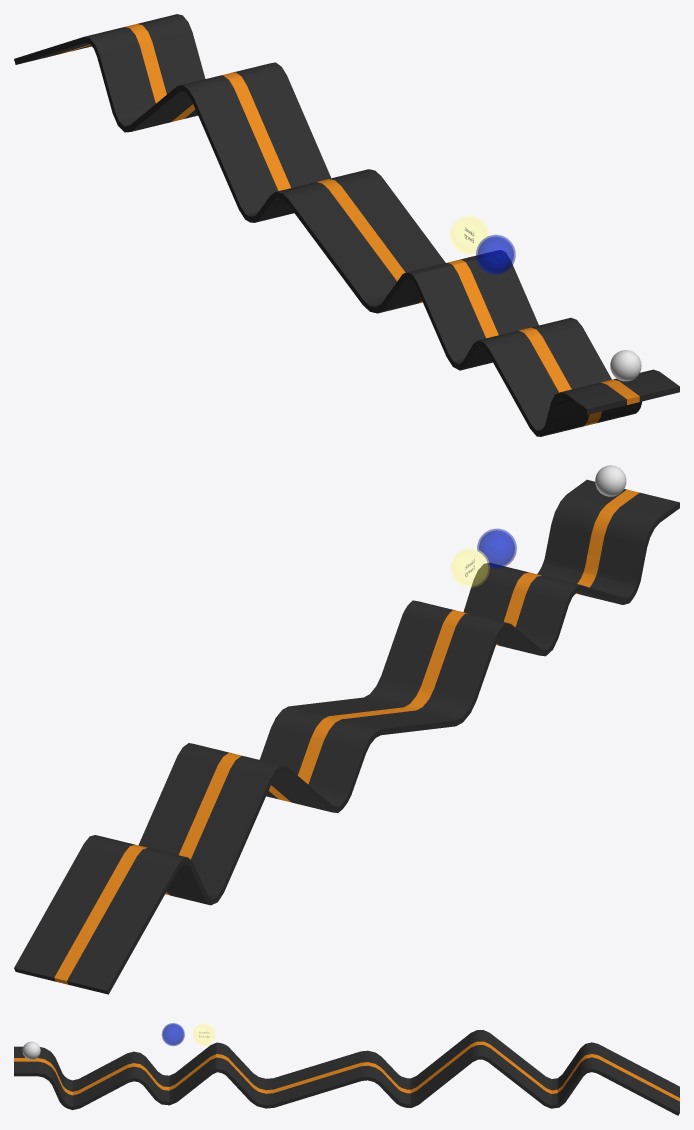
File: ACTIVITY_ASSETS.fbx
3 renders of one model, top to bottom at view 1: azimuth 30°, elevation 25°; view 2: azimuth 150°, elevation 25°; view 3: azimuth 270°, elevation 25°, orthographic. The views are drawn at different scales.
Visible parts, largest first — view 1: space_ROAD, Sphere.003, Sphere.002, ball; view 2: space_ROAD, Sphere.002, Sphere.003, ball; view 3: space_ROAD, Sphere.003, Sphere.002, ball.
Boxes of the visible parts, left/top/right/bottom form: space_ROAD: left=14, top=14, right=679, bottom=436; Sphere.003: left=476, top=234, right=515, bottom=274; Sphere.002: left=450, top=216, right=488, bottom=254; ball: left=610, top=350, right=641, bottom=381; space_ROAD: left=14, top=479, right=679, bottom=994; Sphere.002: left=451, top=548, right=489, bottom=587; Sphere.003: left=477, top=528, right=516, bottom=568; ball: left=595, top=465, right=626, bottom=496; space_ROAD: left=14, top=1030, right=679, bottom=1115; Sphere.003: left=161, top=1023, right=184, bottom=1046; Sphere.002: left=193, top=1023, right=214, bottom=1045; ball: left=22, top=1041, right=40, bottom=1059.
Size of the model in its own units: 84.21 by 117 by 898.
